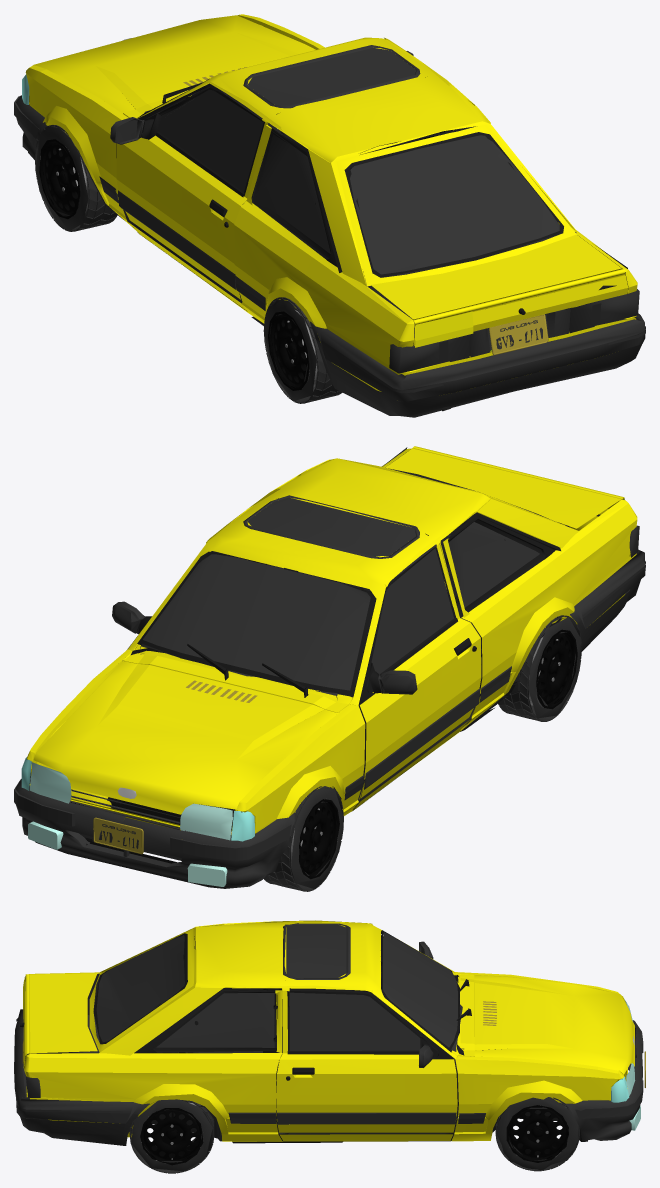
Rendered from volkswagen-apollo.glb.
The picture shows the model from 3 angles, top to bottom: view 1: azimuth 30°, elevation 25°; view 2: azimuth 150°, elevation 25°; view 3: azimuth 270°, elevation 25°; orthographic projection. The views are drawn at different scales.
Parts seen in each view (by area): view 1: default_corzinha__prim_spec__0, default_preto__spec__0, PARABRIS_TRASERO, PUERTA_IZQ, default_black__spec__0, VIDRIO_DD, default_escort_0, default_Matte__FFFFFFFF__env_2_spec__0, VIDRIO_TD, default_som__spec__0, default_corzinha_0, default_apollo__spec__0; view 2: default_corzinha__prim_spec__0, default_preto__spec__0, PARABRIS, default_black__spec__0, PUERTA_IZQ, default_escort_0, VIDRIO_DD, default_Matte__FFFFFFFF__env_2_spec__0, VIDRIO_TD, default_vehiclelights128__spec_FL__0, default_vehiclelights128__spec_FR__0, default_corzinha_0 (+1 smaller); view 3: default_corzinha__prim_spec__0, PUERTA_DELANTERA2, default_preto__spec__0, default_black__spec__0, VIDRIO_DI, PARABRIS_TRASERO, default_Matte__FFFFFFFF__env_2_spec__0, PARABRIS, default_escort_0, VIDRIO_TI, default_corzinha_0.
Part boxes in pixels (box(x1,y1,x2,y2)): default_corzinha__prim_spec__0: box(25, 14, 637, 391); default_preto__spec__0: box(14, 45, 645, 417); PARABRIS_TRASERO: box(350, 135, 559, 274); PUERTA_IZQ: box(116, 84, 268, 310); default_black__spec__0: box(35, 48, 542, 403); VIDRIO_DD: box(158, 89, 263, 191); default_escort_0: box(43, 77, 627, 411); default_Matte__FFFFFFFF__env_2_spec__0: box(39, 139, 309, 390); VIDRIO_TD: box(256, 134, 330, 253); default_som__spec__0: box(389, 289, 639, 373); default_corzinha_0: box(183, 67, 548, 355); default_apollo__spec__0: box(415, 311, 473, 347); default_corzinha__prim_spec__0: box(27, 446, 637, 835); default_preto__spec__0: box(14, 447, 645, 888); PARABRIS: box(143, 554, 370, 690); default_black__spec__0: box(98, 497, 581, 891); PUERTA_IZQ: box(353, 541, 481, 810); default_escort_0: box(26, 478, 623, 874); VIDRIO_DD: box(371, 548, 453, 674); default_Matte__FFFFFFFF__env_2_spec__0: box(299, 629, 577, 879); VIDRIO_TD: box(448, 522, 539, 607); default_vehiclelights128__spec_FL__0: box(180, 803, 232, 886); default_vehiclelights128__spec_FR__0: box(28, 762, 71, 849); default_corzinha_0: box(93, 680, 257, 854); default_corzinha__prim_spec__0: box(23, 920, 634, 1141); PUERTA_DELANTERA2: box(276, 988, 458, 1140); default_preto__spec__0: box(14, 923, 643, 1145); default_black__spec__0: box(129, 924, 579, 1173); VIDRIO_DI: box(289, 992, 420, 1050); PARABRIS_TRASERO: box(96, 935, 184, 1042); default_Matte__FFFFFFFF__env_2_spec__0: box(140, 1105, 568, 1165); PARABRIS: box(383, 932, 457, 1047); default_escort_0: box(20, 924, 622, 1143); VIDRIO_TI: box(156, 993, 274, 1047); default_corzinha_0: box(22, 991, 645, 1087).
Bounding box in the file's own units: 0.0523 × 0.0373 × 0.1216.
